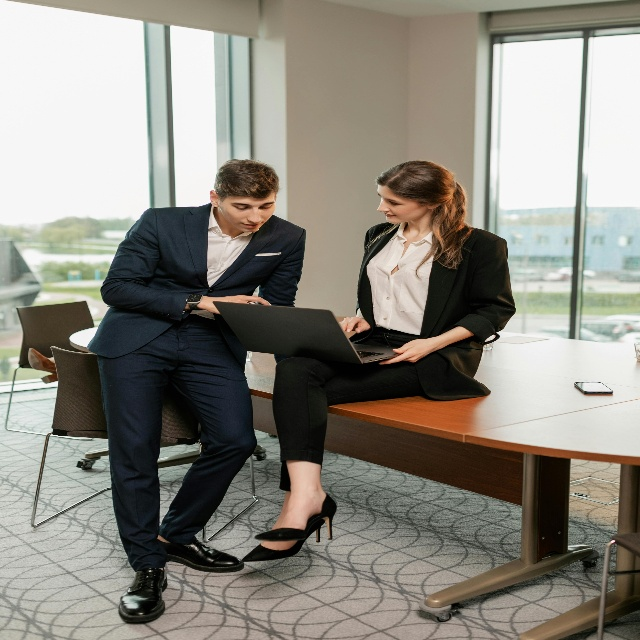Sin_guantes: (208, 290, 271, 319), (376, 334, 431, 365), (338, 315, 368, 334)
